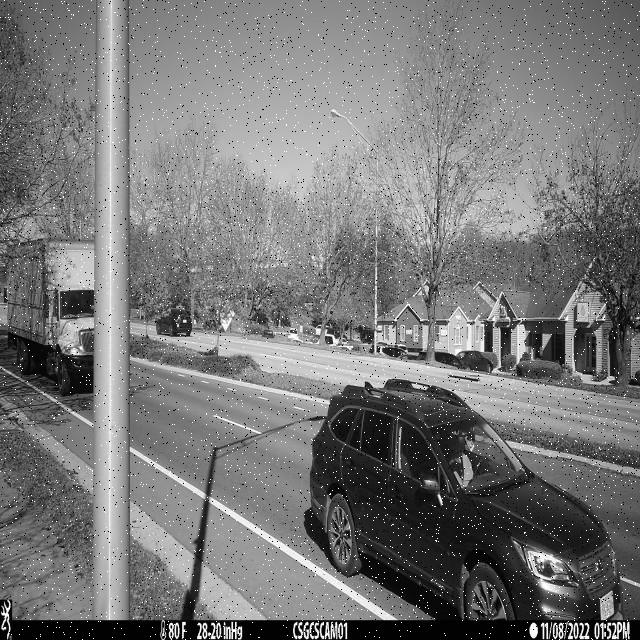Box Truck: (4, 240, 95, 396)
SUV: (310, 379, 625, 623)
